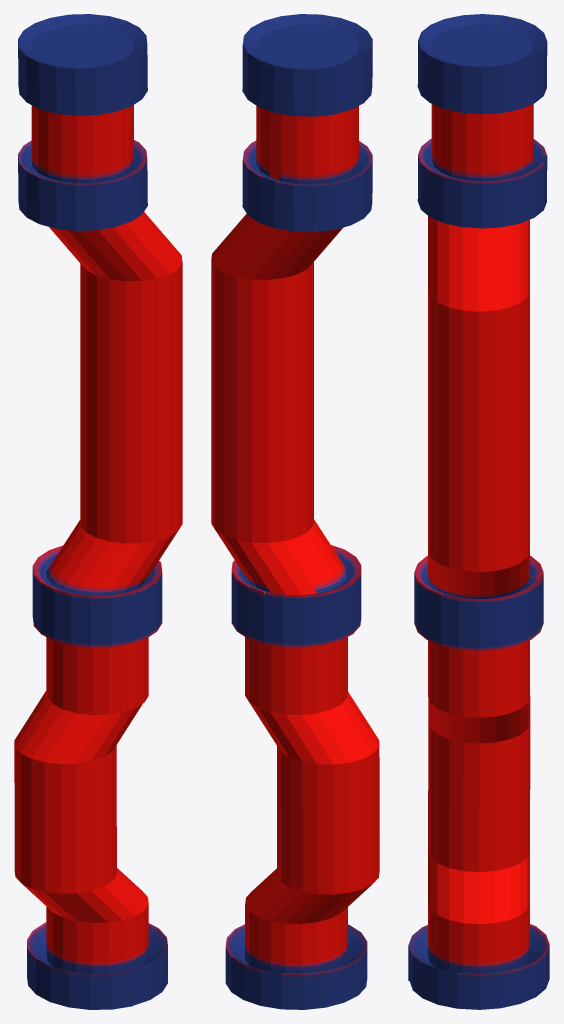
File: Lab Buizen model 6.fbx
The picture shows the model from 3 angles, left to right: view 1: azimuth 30°, elevation 25°; view 2: azimuth 150°, elevation 25°; view 3: azimuth 270°, elevation 25°; orthographic projection.
Parts seen in each view (by area): view 1: polySurface5; view 2: polySurface5; view 3: polySurface5.
Boxes of the visible parts, x1,y1,x2,y2 form: polySurface5: (14, 14, 182, 1009); polySurface5: (211, 14, 379, 1009); polySurface5: (408, 14, 549, 1009).
Bounding box in the file's own units: 34.74 × 202 × 27.62.
1 material, 1 textured.
